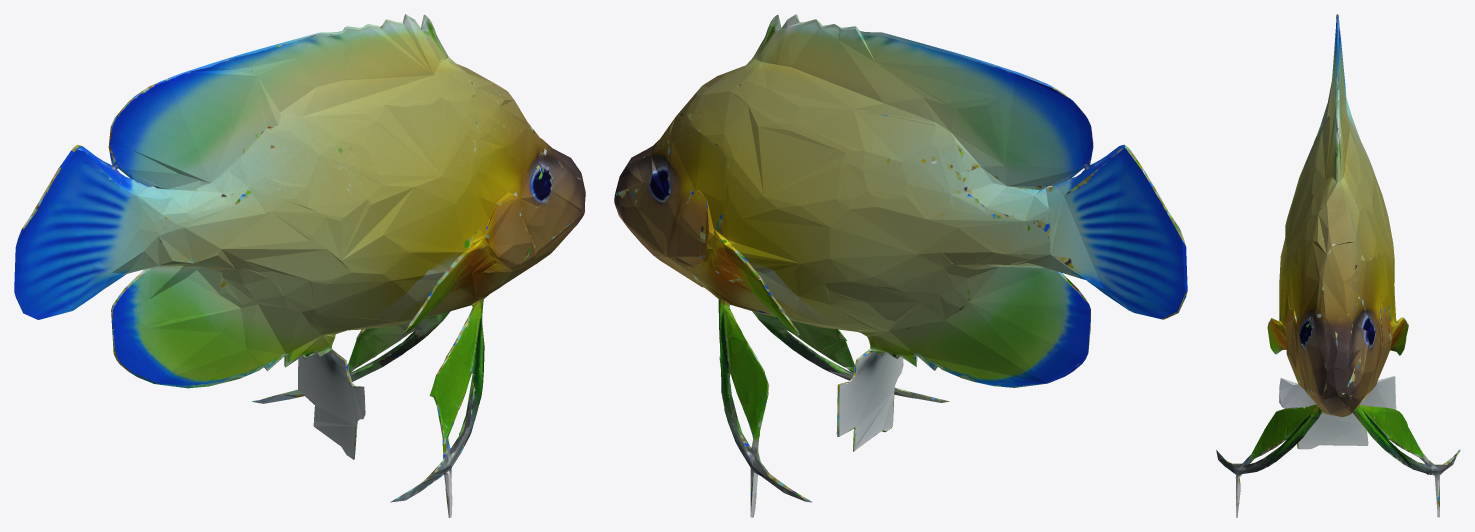
Rendered from fish_0064_smpl23_resized.glb.
The picture shows the model from 3 angles, left to right: view 1: azimuth 30°, elevation 25°; view 2: azimuth 150°, elevation 25°; view 3: azimuth 270°, elevation 25°; orthographic projection. The views are drawn at different scales.
Visible parts, largest first — view 1: world; view 2: world; view 3: world.
Boxes of the visible parts, left/top/right/bottom form: world: left=14, top=14, right=585, bottom=517; world: left=614, top=14, right=1187, bottom=517; world: left=1216, top=14, right=1460, bottom=517.
Bounding box in the file's own units: 1.99 × 1.54 × 0.8342.
1 material, 1 textured.
